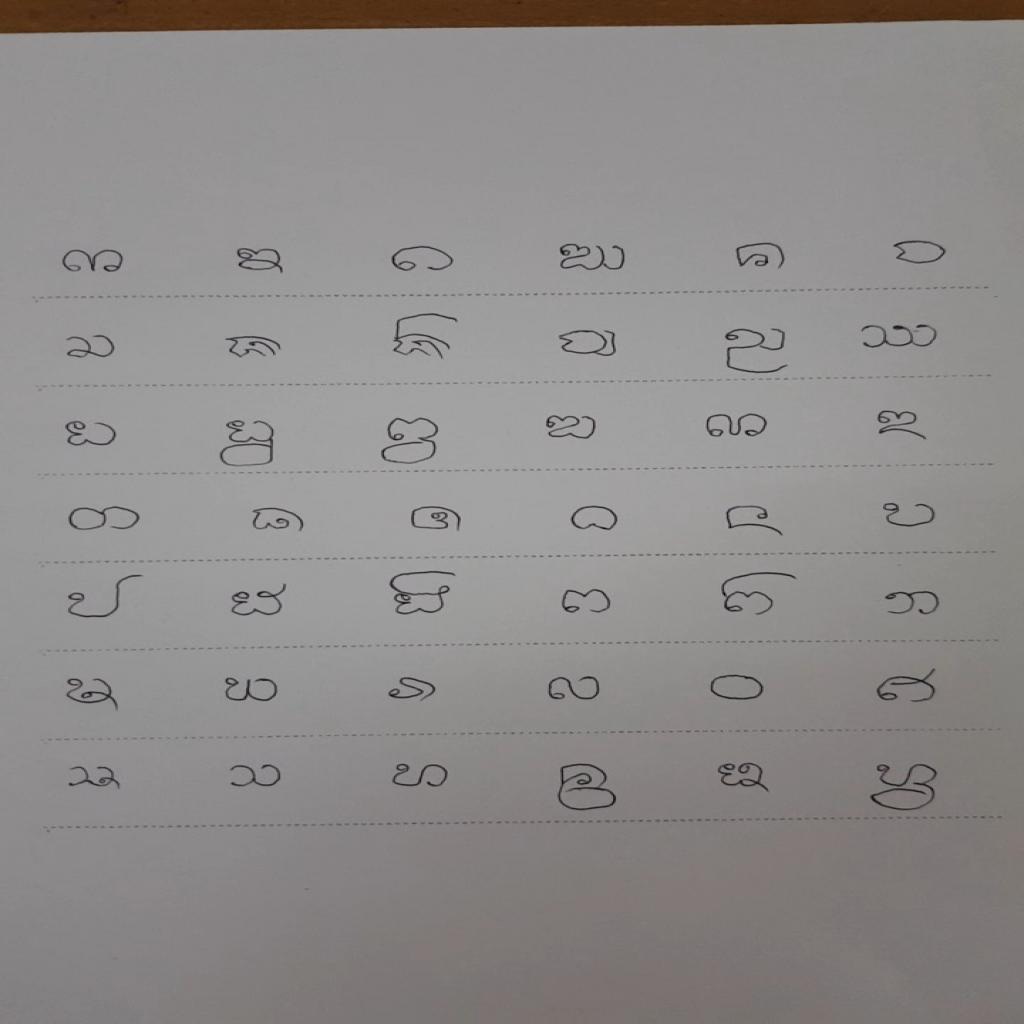LN001: (57, 244, 131, 280)
LN002: (231, 244, 289, 279)
LN003: (385, 243, 460, 276)
LN004: (554, 243, 630, 275)
LN005: (730, 241, 790, 273)
LN006: (889, 238, 951, 268)
LN007: (62, 333, 121, 362)
LN008: (218, 333, 287, 362)
LN009: (387, 310, 467, 367)
LN010: (555, 326, 624, 361)
LN011: (720, 325, 795, 378)
LN012: (856, 321, 945, 353)
LN013: (62, 419, 122, 450)
LN014: (216, 416, 280, 470)
LN015: (375, 416, 444, 468)
LN016: (541, 413, 601, 443)
LN017: (701, 412, 773, 443)
LN018: (871, 407, 933, 445)
LN019: (64, 502, 145, 535)
LN020: (246, 503, 310, 537)
LN021: (405, 503, 468, 536)
LN022: (566, 503, 625, 535)
LN023: (721, 502, 787, 539)
LN024: (876, 498, 942, 531)
LN025: (62, 572, 142, 622)
LN026: (225, 583, 291, 621)
LN027: (385, 569, 460, 620)
LN028: (556, 587, 615, 618)
LN029: (717, 570, 801, 620)
LN030: (879, 587, 945, 620)
LN031: (62, 673, 123, 714)
LN032: (218, 675, 282, 705)
LN033: (383, 675, 443, 706)
LN034: (542, 674, 606, 705)
LN035: (704, 673, 769, 705)
LN036: (870, 666, 942, 707)
LN037: (64, 762, 127, 794)
LN038: (224, 760, 287, 792)
LN039: (388, 759, 454, 793)
LN040: (552, 760, 622, 814)
LN041: (712, 759, 774, 796)
LN042: (863, 760, 942, 814)
